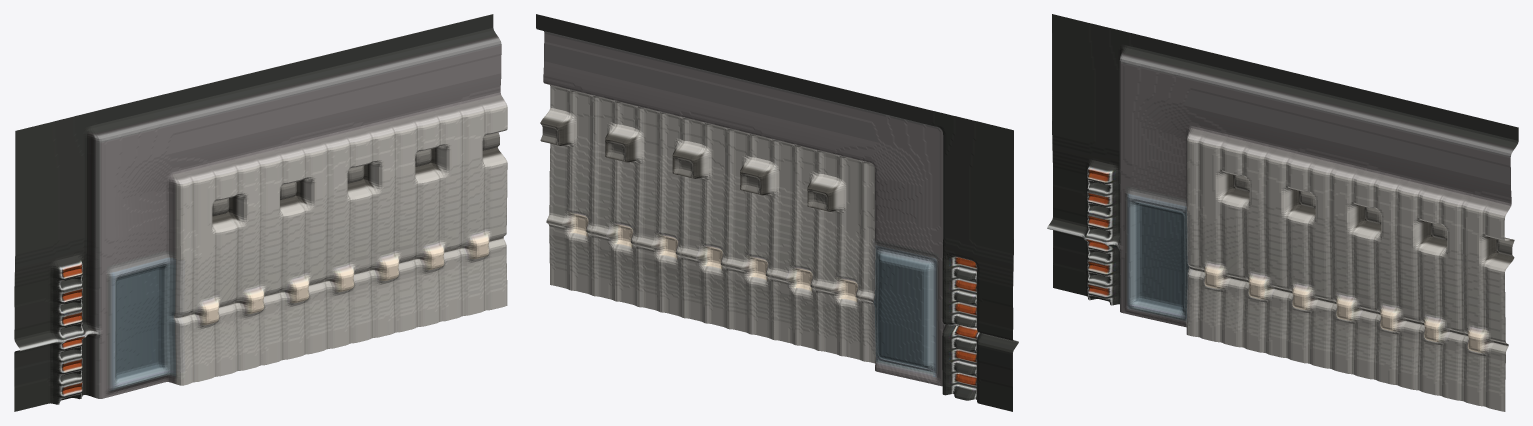
The model's file is warehouse_site.obj.
3 views of the same model, side by side, from view 1: azimuth 30°, elevation 25°; view 2: azimuth 150°, elevation 25°; view 3: azimuth 330°, elevation 25° (orthographic). The views are drawn at different scales.
Parts seen in each view (by area): view 1: frame_00001; view 2: frame_00001; view 3: frame_00001.
Boxes of the visible parts, box(x1,y1,x2,y2) form: frame_00001: box(14, 14, 507, 411); frame_00001: box(536, 14, 1018, 411); frame_00001: box(1047, 14, 1518, 411).
Size of the model in its own units: 128 by 72 by 8.61.
Materials: 1 (1 with a texture image).
